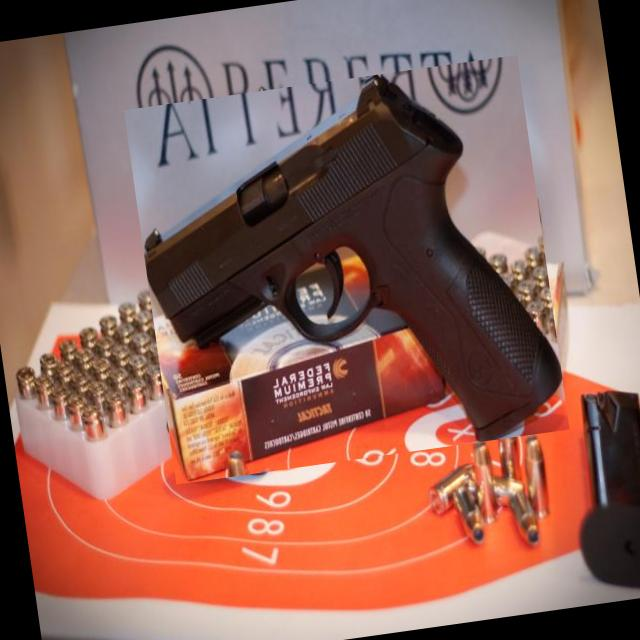Gun: (145, 74, 561, 441)
